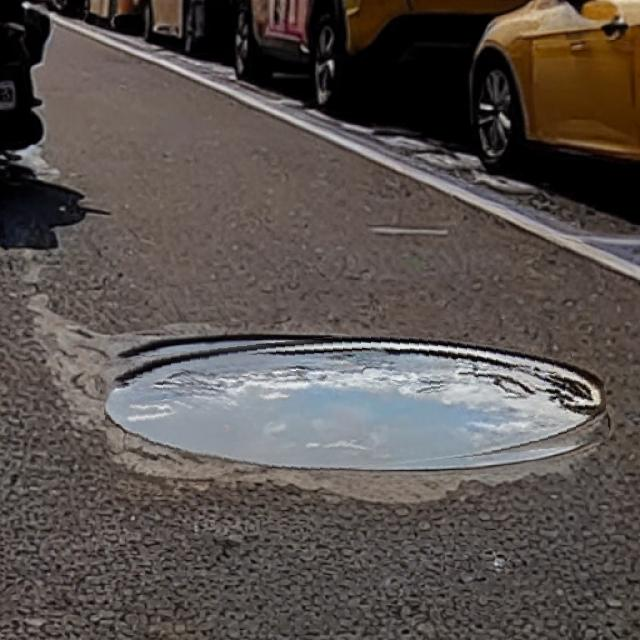puddle: (103, 323, 608, 483)
